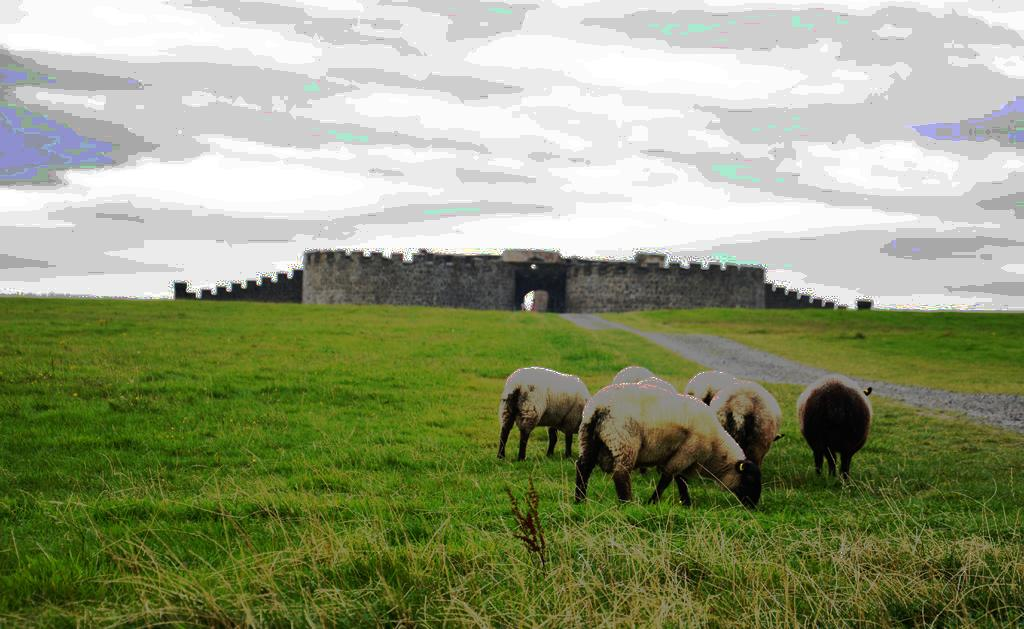Sheep: (564, 378, 766, 520), (492, 364, 600, 476), (795, 360, 881, 492), (724, 385, 779, 447), (687, 355, 734, 391)
